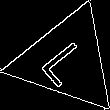L_NE: (36, 33, 97, 89)
